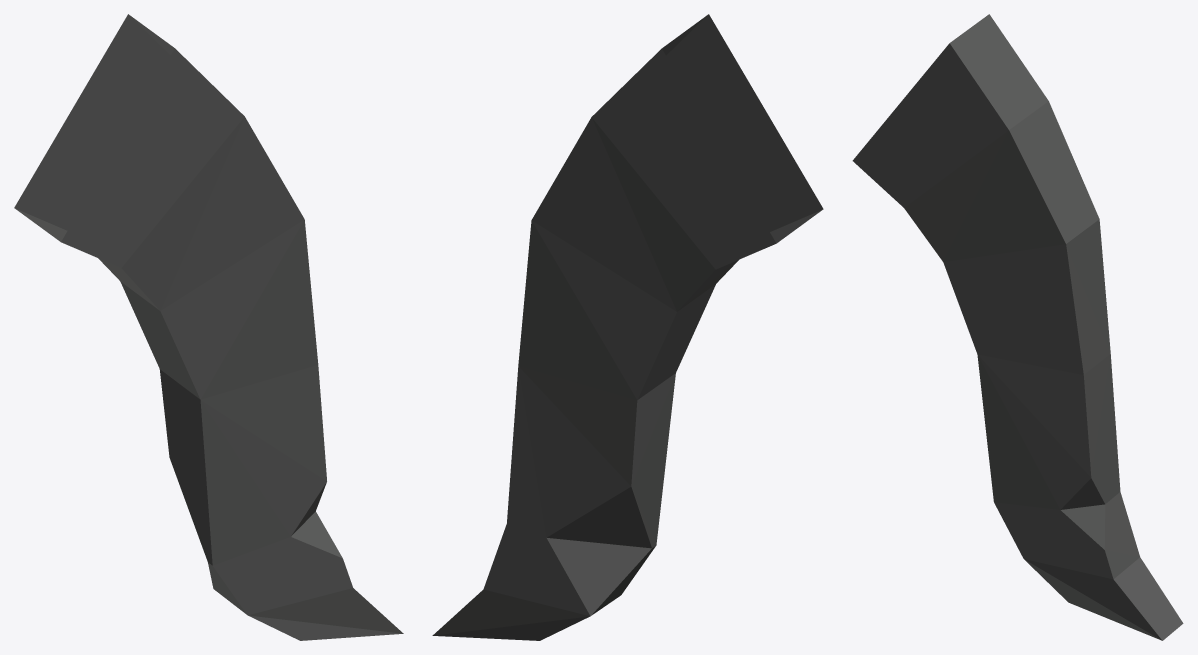
The model's file is Hand_Cannon_Trigger_001.fbx.
3 renders of one model, left to right at view 1: azimuth 30°, elevation 25°; view 2: azimuth 150°, elevation 25°; view 3: azimuth 330°, elevation 25°, orthographic. The views are drawn at different scales.
Parts seen in each view (by area): view 1: Hand_Cannon_Trigger_001; view 2: Hand_Cannon_Trigger_001; view 3: Hand_Cannon_Trigger_001.
Part boxes in pixels (box(x1,y1,x2,y2)): Hand_Cannon_Trigger_001: box(14, 14, 403, 640); Hand_Cannon_Trigger_001: box(432, 14, 823, 640); Hand_Cannon_Trigger_001: box(852, 14, 1183, 640).
Bounding box in the file's own units: 2.3 × 4.06 × 0.5277.
